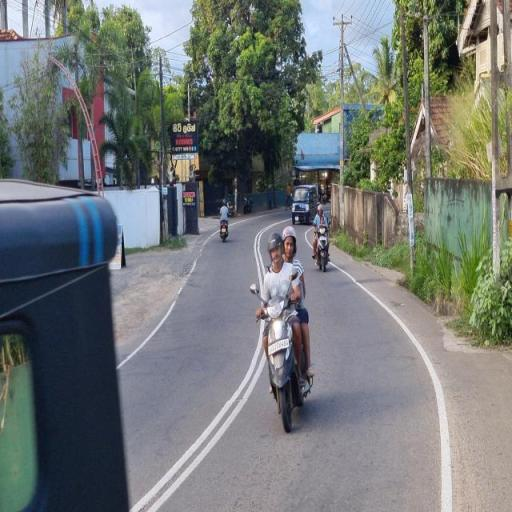double_white_line: (126, 348, 264, 511)
